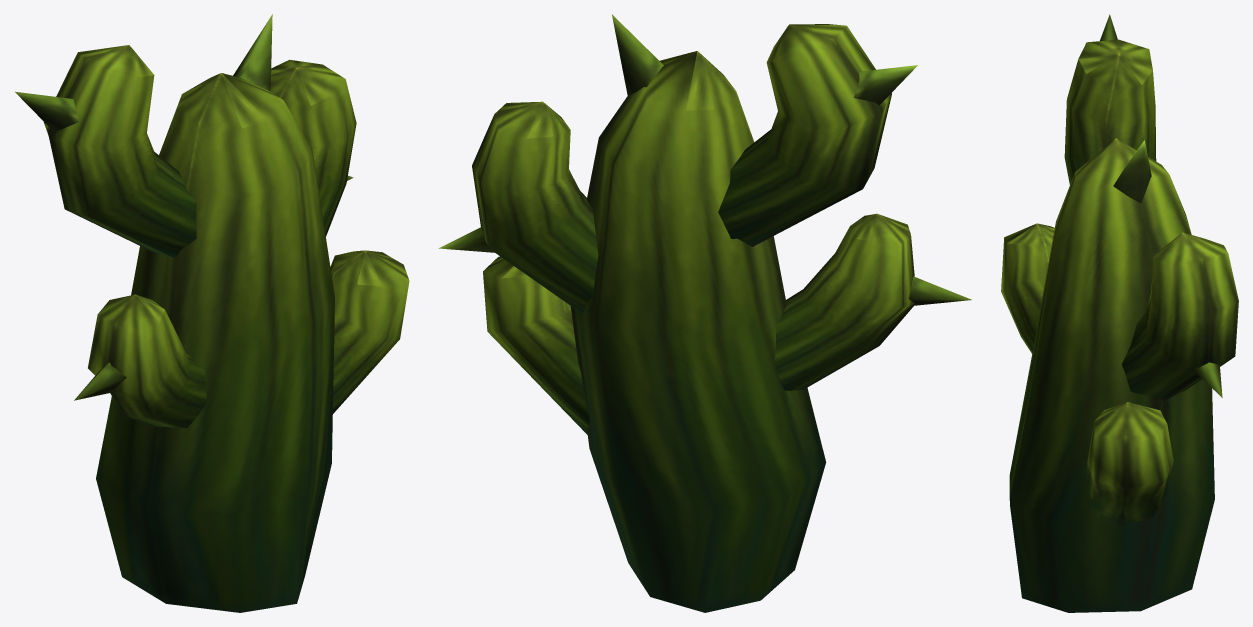
The model's file is xianrenzhang05.FBX.
The picture shows the model from 3 angles, left to right: view 1: azimuth 30°, elevation 25°; view 2: azimuth 150°, elevation 25°; view 3: azimuth 270°, elevation 25°; orthographic projection. The views are drawn at different scales.
Visible parts, largest first — view 1: xianrenzhang05; view 2: xianrenzhang05; view 3: xianrenzhang05.
Part boxes in pixels (<box>): xianrenzhang05: <box>15,14,409,612</box>; xianrenzhang05: <box>438,14,971,612</box>; xianrenzhang05: <box>1001,14,1238,612</box>.
Size of the model in its own units: 69.84 by 90.87 by 39.69.
